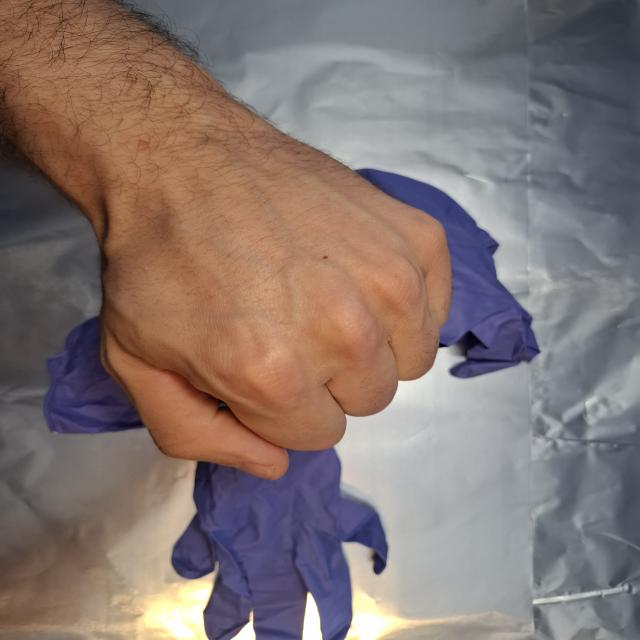glove_off: (94, 72, 460, 483)
